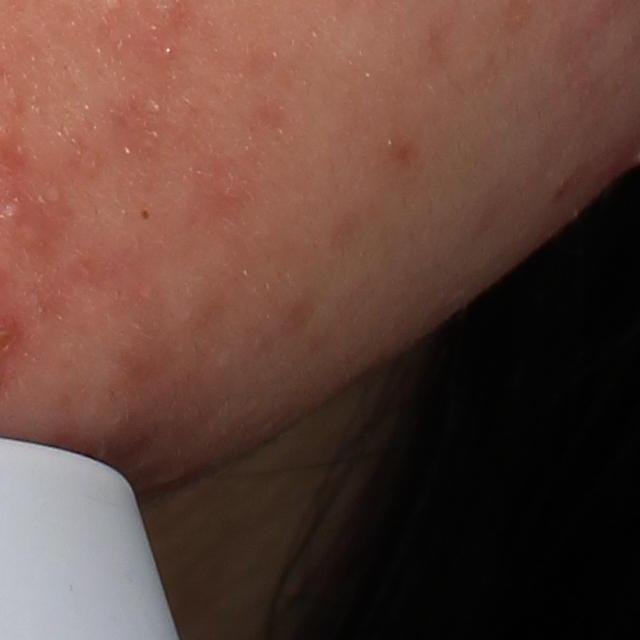comedo: (0, 197, 25, 223), (137, 205, 156, 223)
